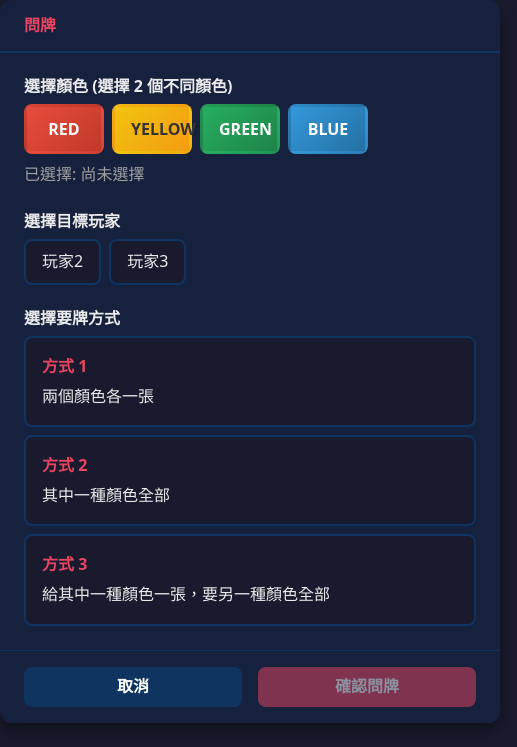
QuestionCard - 工作單 0019 › 要牌方式選擇器 › 點擊要牌方式應選擇該方式
What coordinates should you click on to do the following:
click the text "兩個顏色各一張"
I would click on:
 (98, 396)
Its box is [42,384,154,409].
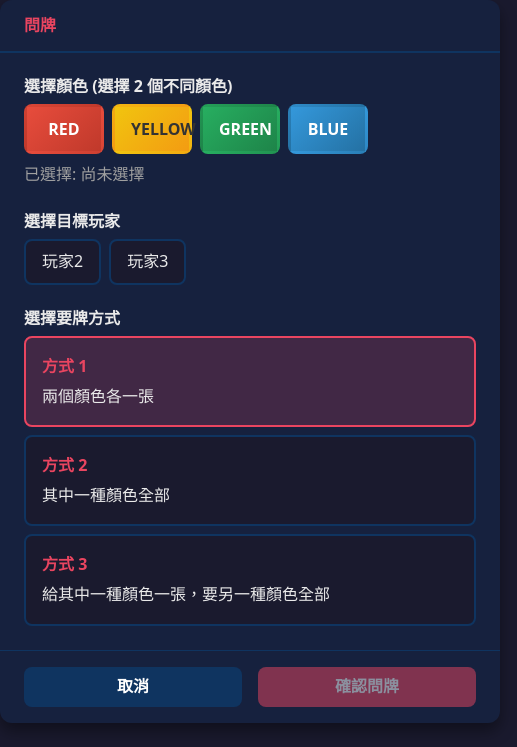
Check: the button with class "selected" is shown, box [24,336,476,427]
